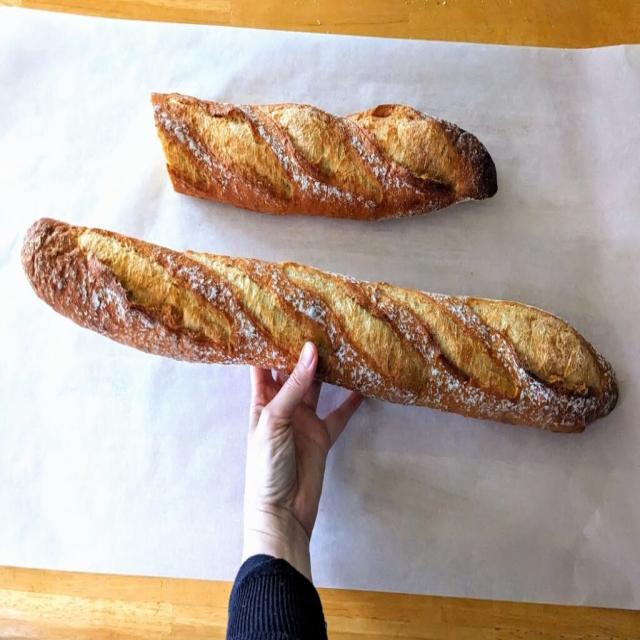Baguette: (21, 218, 618, 431), (151, 93, 497, 219)
